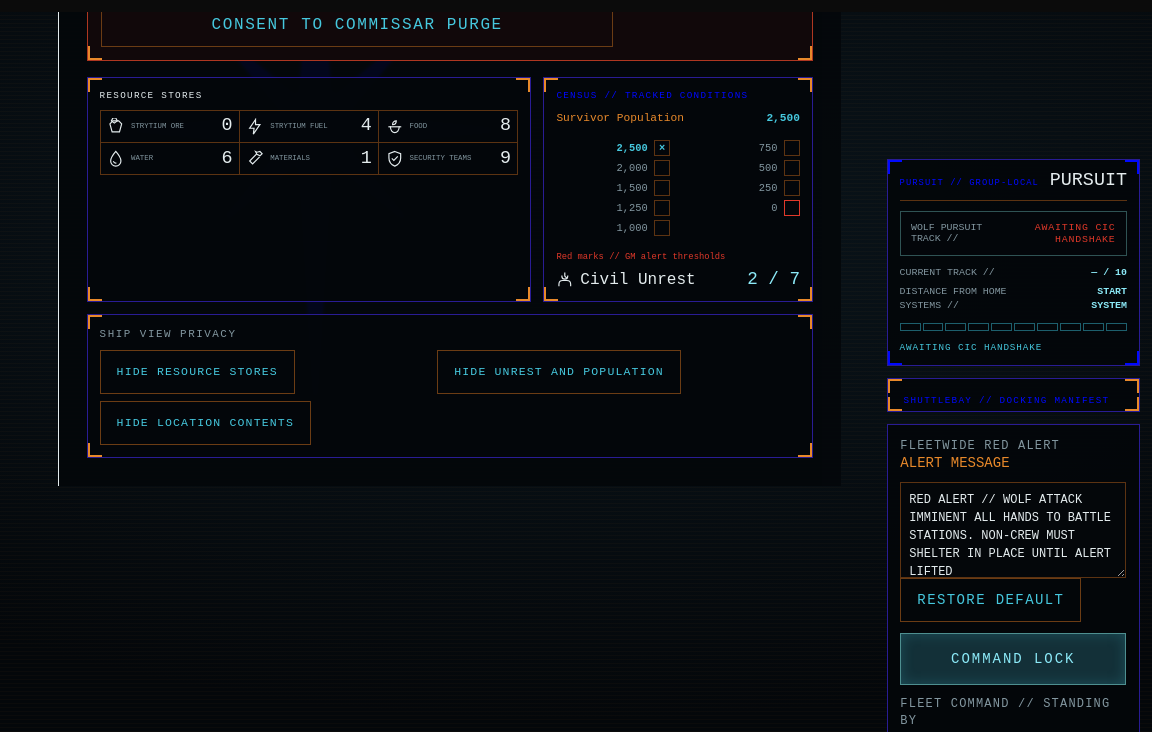
lets a ship hide resource stores and census independently in its local view
The image size is (1152, 732).
(page scrolled)
Expected: the element named "AEGIS resource stores" is shown, left=87, top=77, right=531, bottom=302
Expected: the element named "AEGIS census" is shown, left=543, top=77, right=813, bottom=302
Click the button "Hide resource stores": (197,372) left=100, top=350, right=295, bottom=394
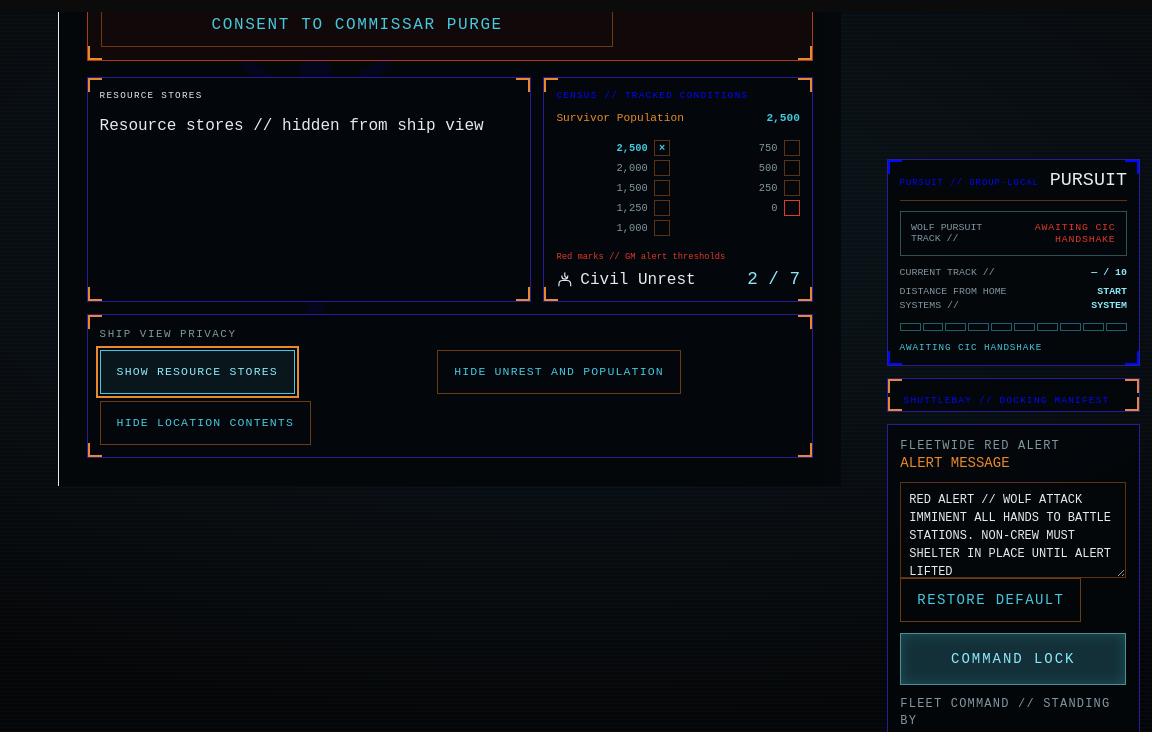
Now the text "Resource stores // hidden from ship view" is shown, box left=100, top=117, right=518, bottom=135
Click the button "Hide unrest and population": (559,372) left=437, top=350, right=681, bottom=394
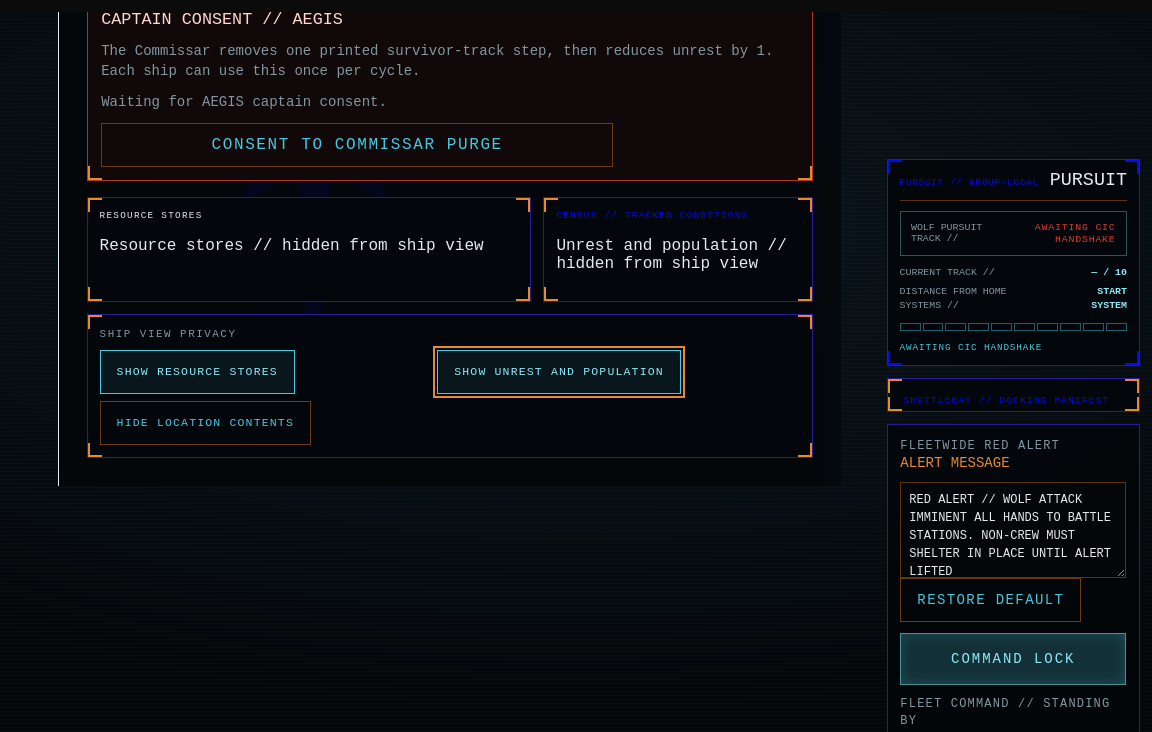
Now the text "Unrest and population // hidden from ship view" is shown, box left=556, top=237, right=800, bottom=273
Now the text "2 / 7" is gone
